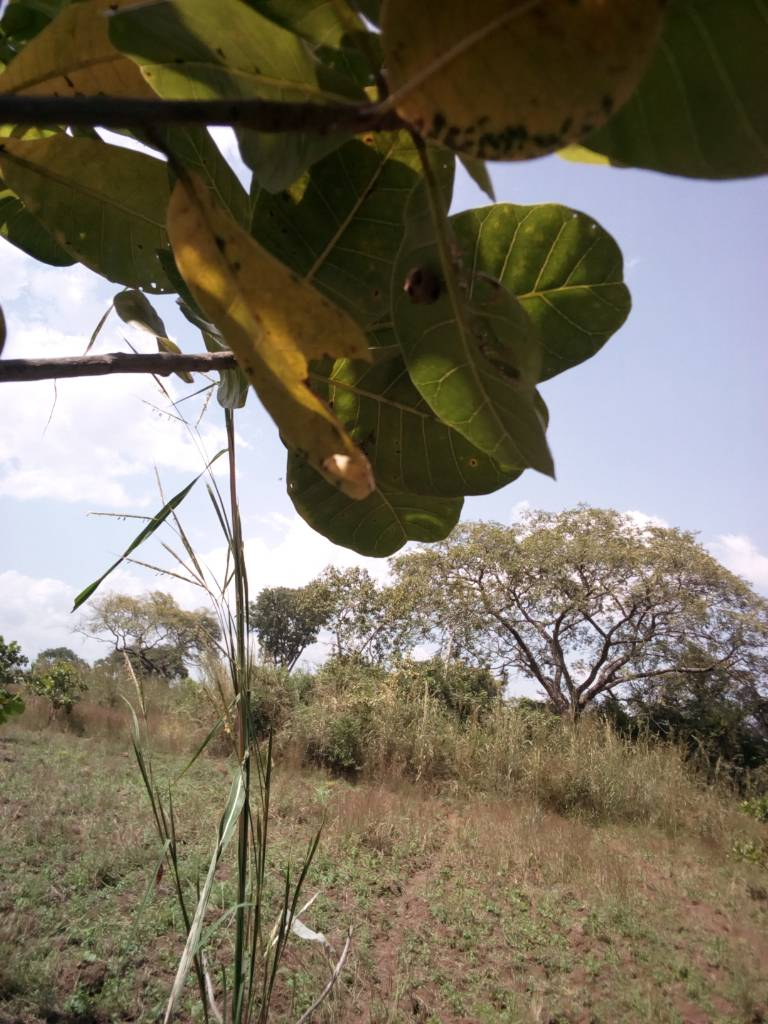Anthracnose: (168, 171, 374, 496), (379, 1, 669, 164)
